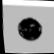correct: (10, 12, 47, 44)
